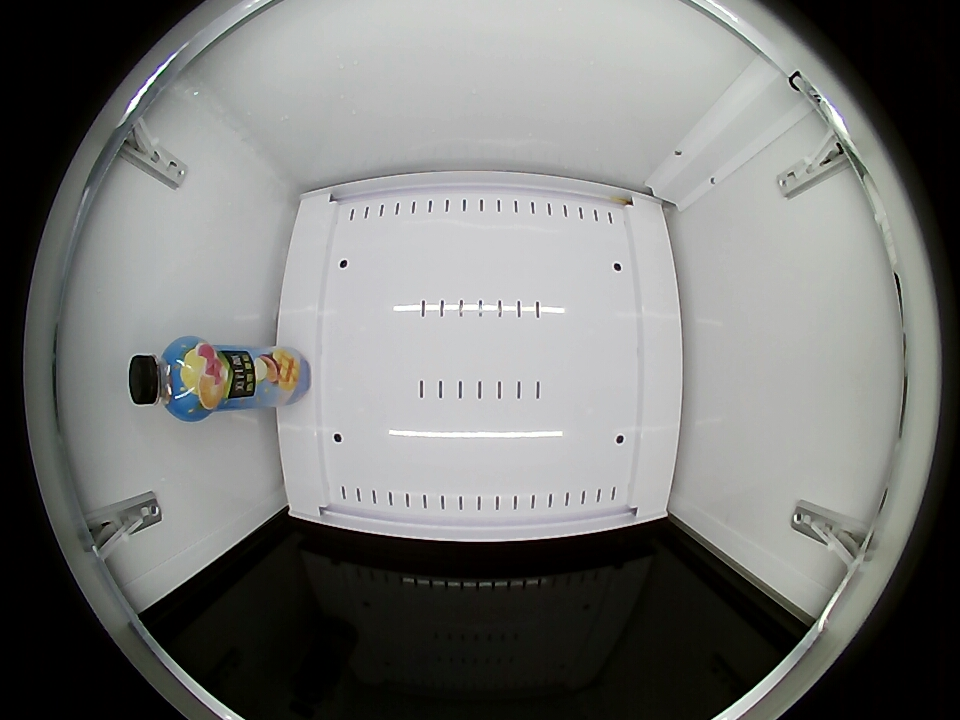guolicheng2: (128, 337, 220, 421)
